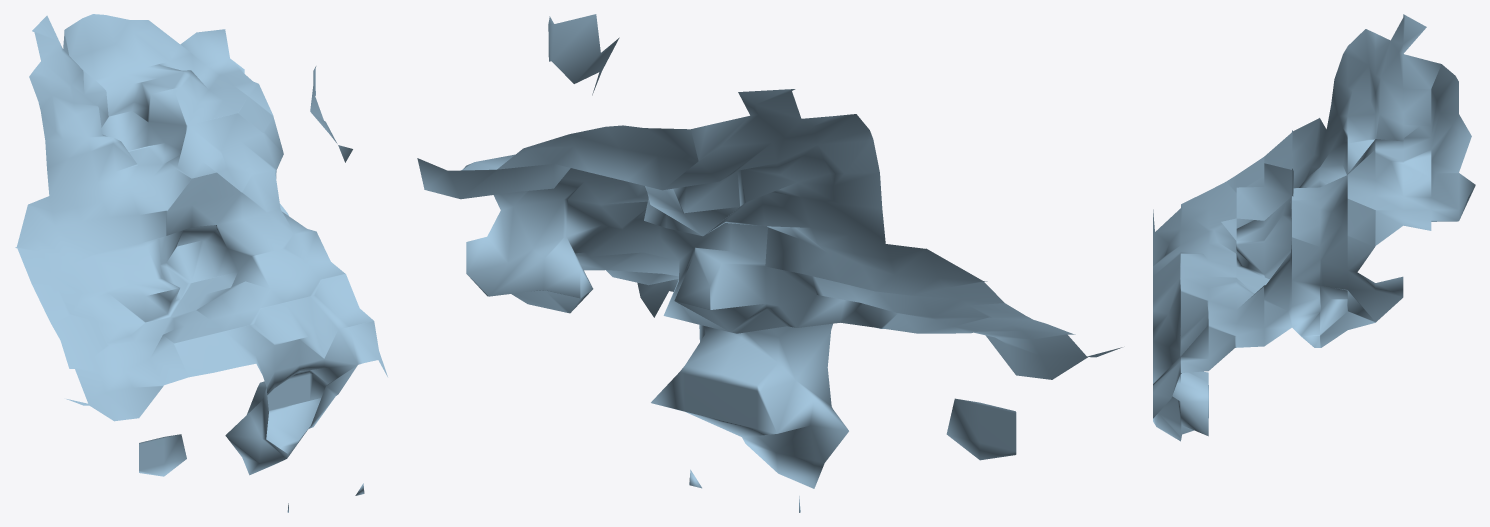
The model's file is tile_-1_0.glb.
The picture shows the model from 3 angles, left to right: view 1: azimuth 30°, elevation 25°; view 2: azimuth 150°, elevation 25°; view 3: azimuth 270°, elevation 25°; orthographic projection. The views are drawn at different scales.
Parts seen in each view (by area): view 1: mesh; view 2: mesh; view 3: mesh.
Boxes of the visible parts, <box> form: mesh: <box>15,14,387,512</box>; mesh: <box>417,14,1122,512</box>; mesh: <box>1153,14,1475,441</box>.
Size of the model in its own units: 13 by 16.03 by 11.61.
